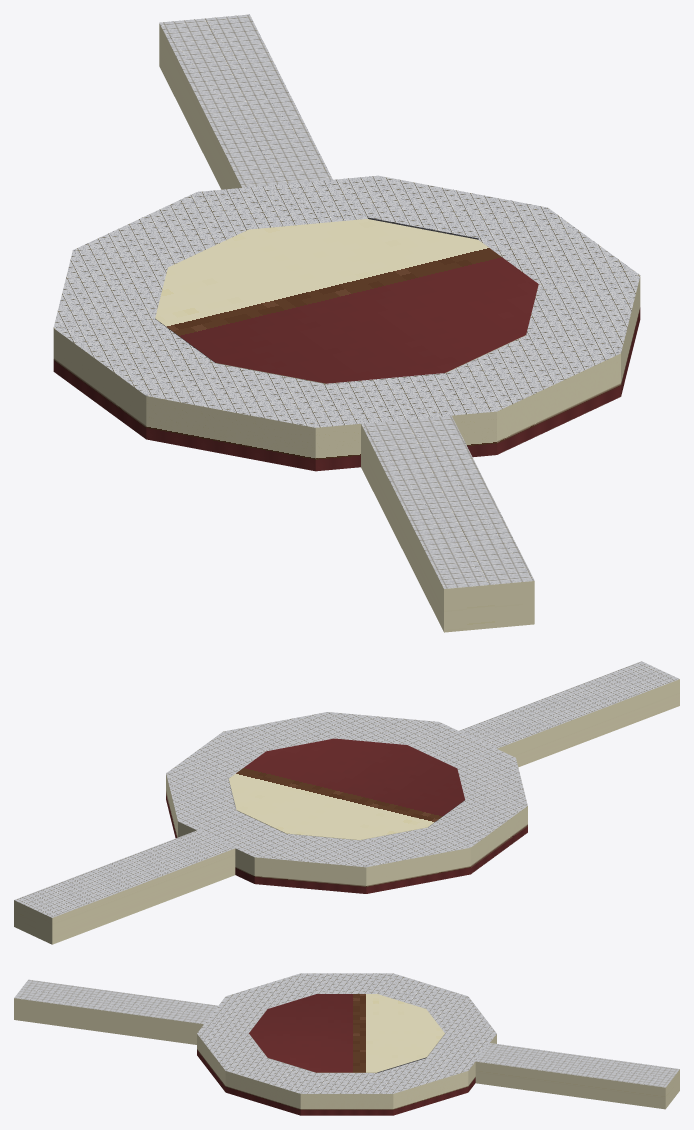
The model's file is basementmarket.glb.
3 views of the same model, one above another, from view 1: azimuth 30°, elevation 25°; view 2: azimuth 150°, elevation 25°; view 3: azimuth 270°, elevation 25° (orthographic). The views are drawn at different scales.
Parts seen in each view (by area): view 1: Ceiling, CoreOuter, walls; view 2: Ceiling, walls, CoreOuter; view 3: Ceiling, walls, CoreOuter.
Part boxes in pixels (box(x1,y1,x2,y2)): Ceiling: box(53, 14, 640, 588); CoreOuter: box(155, 219, 538, 383); walls: box(53, 23, 640, 632); Ceiling: box(14, 661, 679, 917); walls: box(14, 679, 679, 944); CoreOuter: box(229, 738, 464, 840); Ceiling: box(14, 973, 679, 1093); walls: box(14, 998, 679, 1115); CoreOuter: box(249, 994, 444, 1072).
Bounding box in the file's own units: 71.37 × 6.8 × 167.
17 materials, 17 textured.
